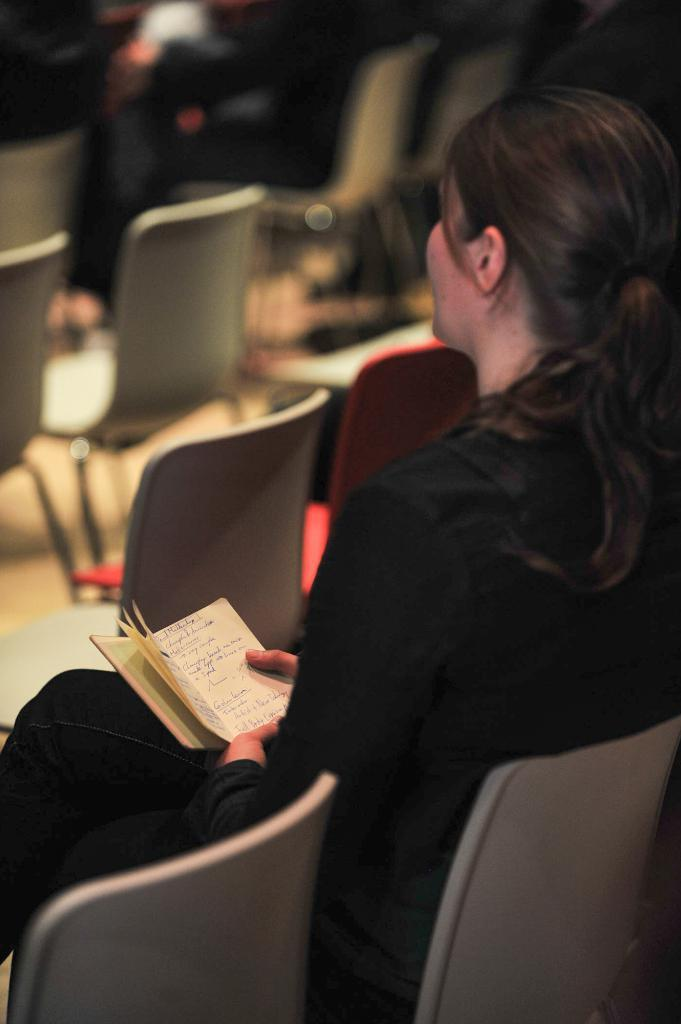Chair: (68, 337, 478, 632), (1, 383, 330, 719), (27, 179, 266, 602), (4, 770, 333, 1023), (413, 711, 677, 1022), (212, 35, 435, 316), (0, 232, 81, 609), (399, 22, 520, 226), (0, 127, 77, 259)
